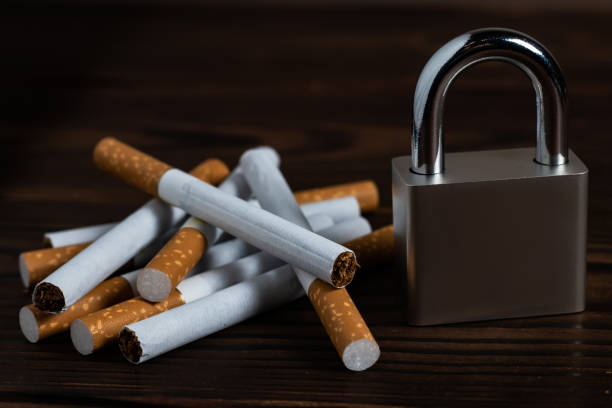cigarette: (88, 133, 359, 289), (28, 156, 231, 319), (237, 147, 381, 375), (66, 250, 280, 358), (119, 261, 306, 365), (136, 164, 252, 305), (19, 266, 146, 343), (17, 240, 95, 287), (343, 223, 400, 265), (41, 221, 120, 251), (292, 183, 380, 209)
